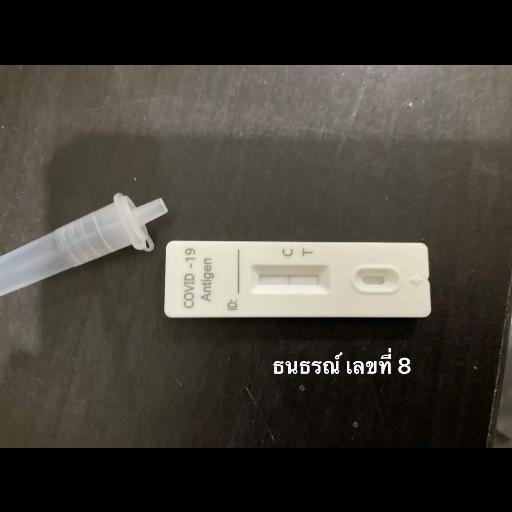Neg: (164, 238, 430, 314)
